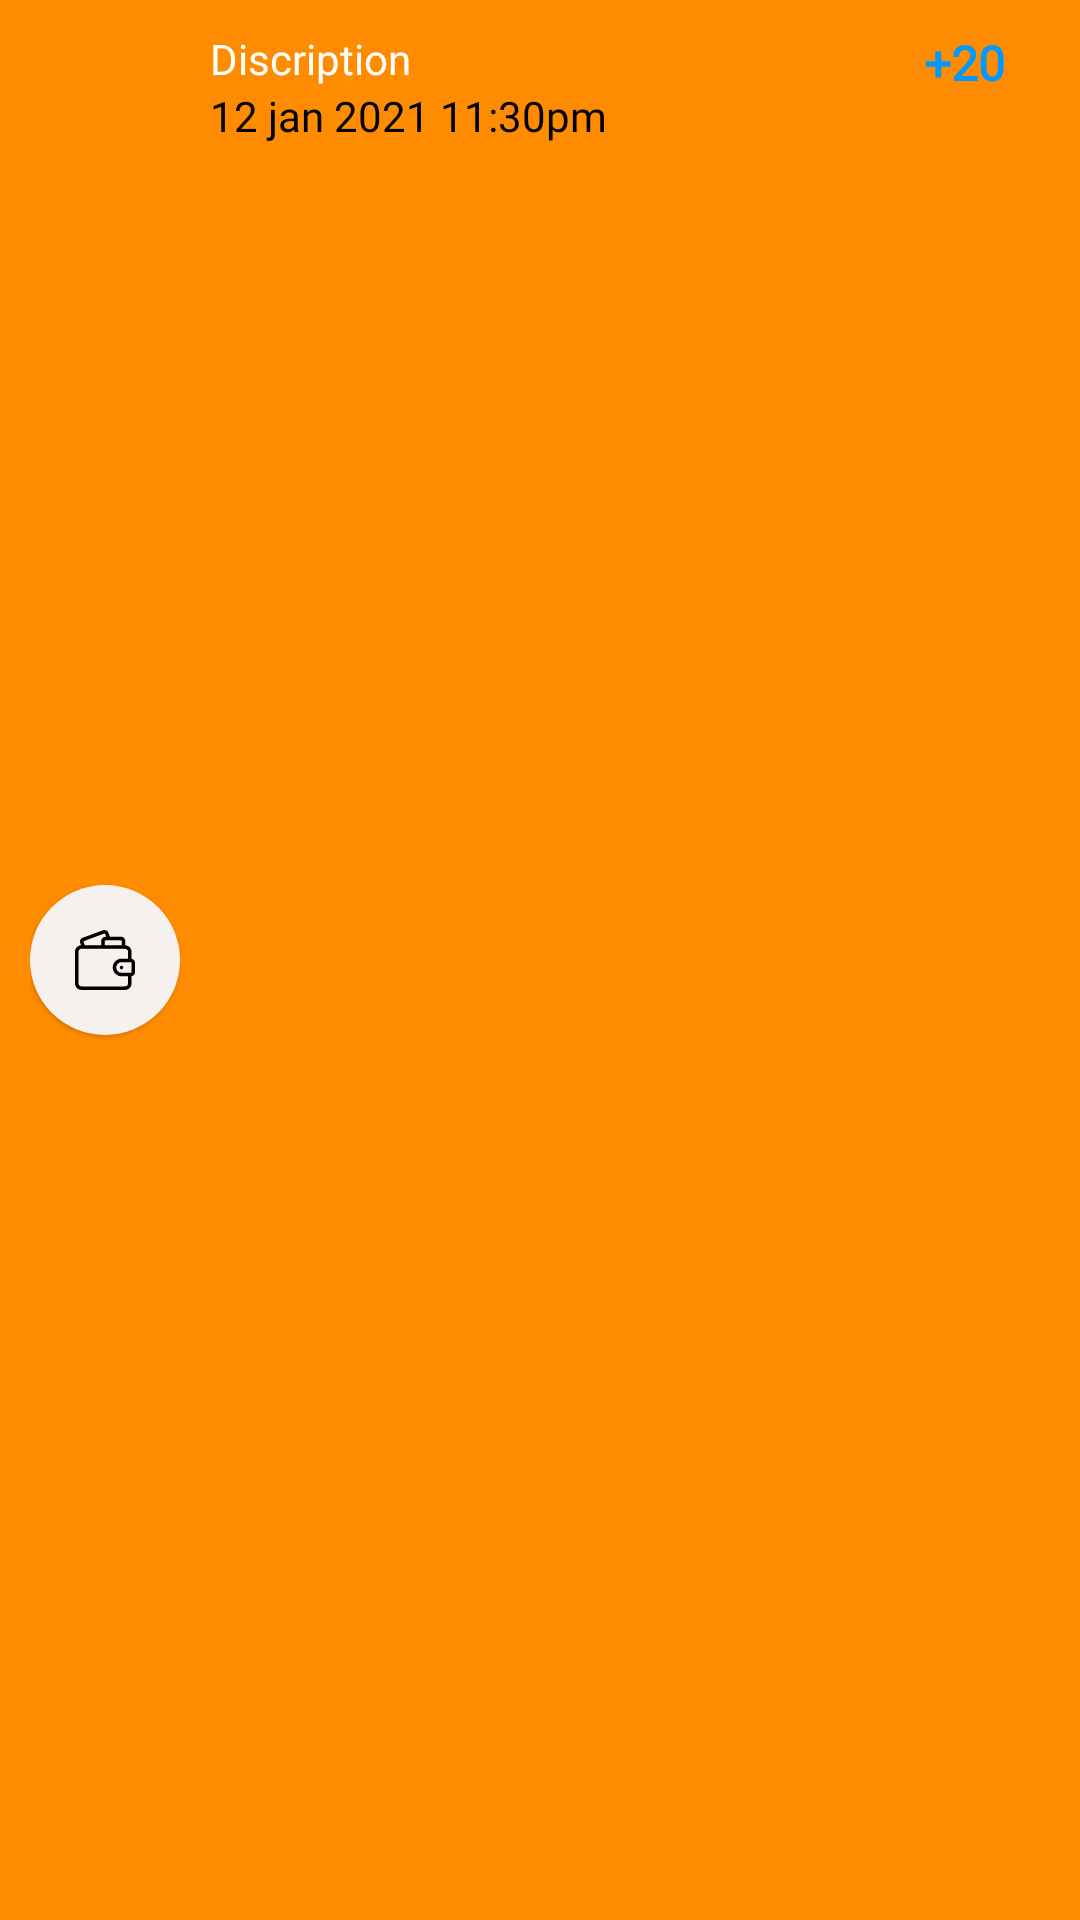

Named icons in this screenshot (1080w x 1920h) and their centers, (x=x, y=y):
wallet: (x=105, y=960)
